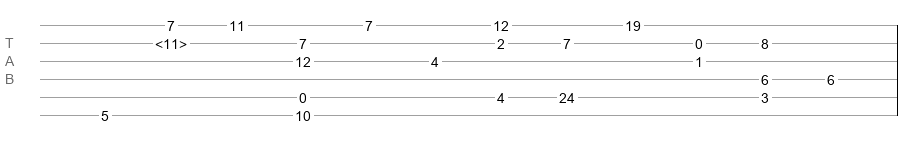0: (299, 90, 307, 100), (695, 36, 703, 46)
1: (695, 54, 703, 64)
10: (295, 108, 311, 118)
11: (229, 18, 245, 28)
12: (295, 54, 311, 64), (493, 18, 509, 28)
19: (625, 18, 641, 28)
2: (497, 36, 505, 46)
24: (559, 90, 575, 100)
3: (761, 90, 769, 100)
4: (431, 54, 439, 64), (497, 90, 505, 100)
5: (101, 108, 109, 118)
6: (761, 72, 769, 82), (827, 72, 835, 82)
7: (167, 18, 175, 28), (299, 36, 307, 46), (365, 18, 373, 28), (563, 36, 571, 46)
8: (761, 36, 769, 46)
harmonic: (155, 36, 187, 46)
